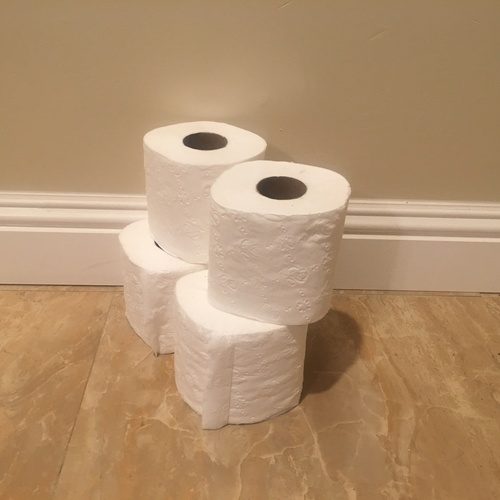roll: (206, 159, 352, 326), (171, 268, 308, 430), (141, 119, 268, 265), (117, 217, 209, 356)
